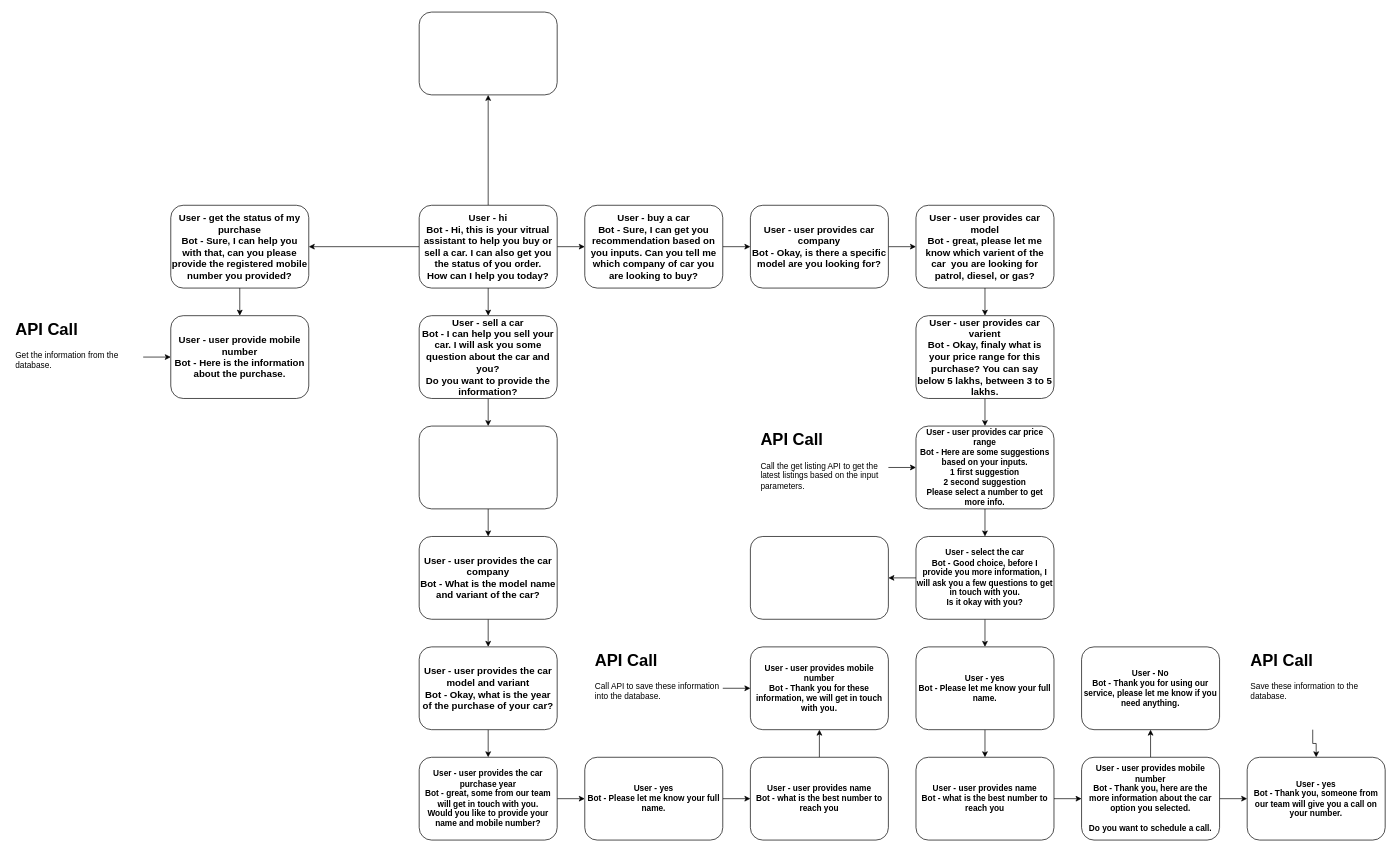
The diagram is 1397 pixels wide and 852 high, and some of its shapes have lost their labels. The shapes that lost their labels are listed below. From the top down, each one's centre as x and y in pixels, then its label:
[487,53]: User - general queries Bot - Anwer the general quries.
[487,467]: User - yes Bot - What is the manuacturer of the car that you want to sell?
[819,577]: User - No Bot - Here is the more information about the car you selected.
